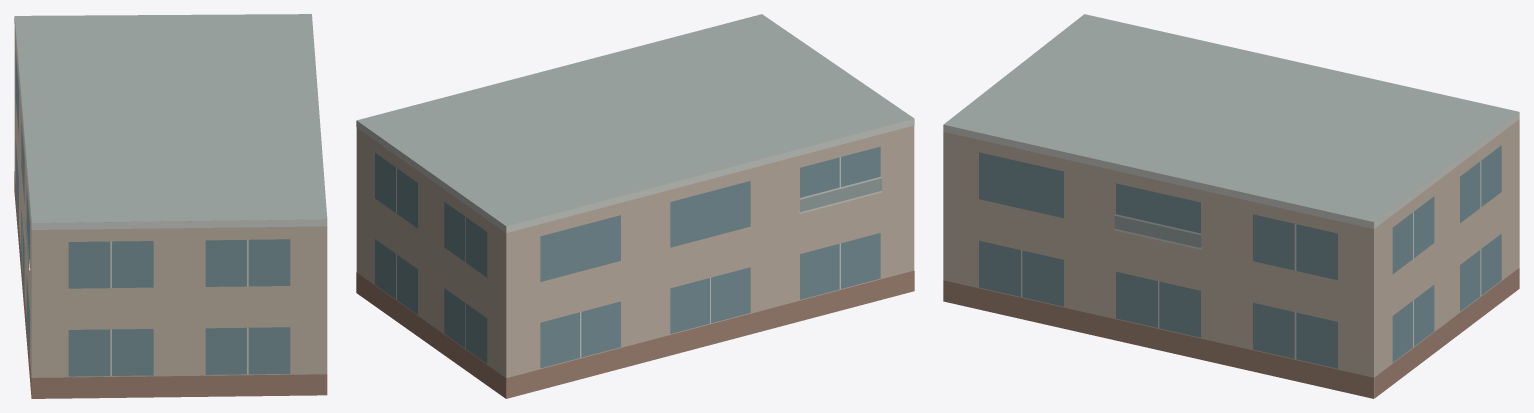
Rendered from survey-upis-32869812.glb.
The picture shows the model from 3 angles, left to right: view 1: azimuth 30°, elevation 25°; view 2: azimuth 150°, elevation 25°; view 3: azimuth 270°, elevation 25°; orthographic projection. The views are drawn at different scales.
Parts seen in each view (by area): view 1: survey-upis-32869812.tmp; view 2: survey-upis-32869812.tmp; view 3: survey-upis-32869812.tmp.
Boxes of the visible parts, x1,y1,x2,y2 form: survey-upis-32869812.tmp: (14,14,327,398); survey-upis-32869812.tmp: (356,14,914,398); survey-upis-32869812.tmp: (943,14,1519,398).
Size of the model in its own units: 15.41 by 6.1 by 18.04.
